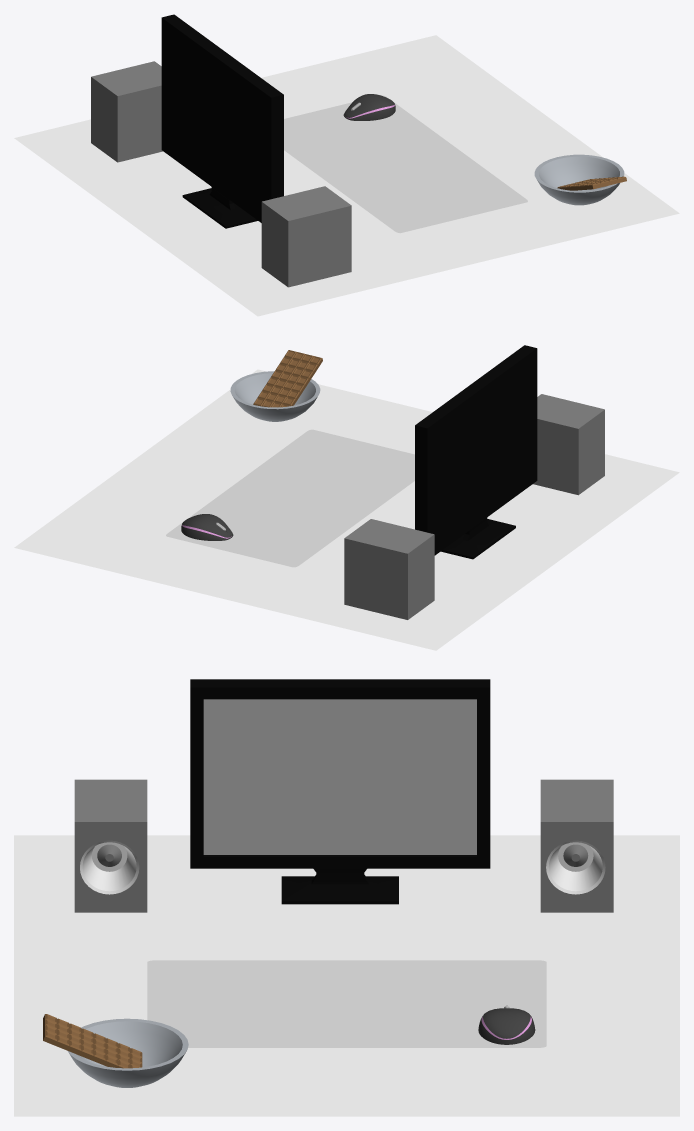
The model's file is Room_02.fbx.
3 views of the same model, one above another, from view 1: azimuth 30°, elevation 25°; view 2: azimuth 150°, elevation 25°; view 3: azimuth 270°, elevation 25° (orthographic). The views are drawn at different scales.
Parts seen in each view (by area): view 1: Plane, TV, Mat, Ufer, Ufer.001, Sara, Mouse, Chocolate; view 2: Plane, TV, Mat, Ufer.001, Ufer, Chocolate, Sara, Mouse; view 3: Plane, TV, Mat, Ufer.001, Ufer, Sara, Chocolate, Mouse.
Boxes of the visible parts, left/top/right/bottom form: Plane: left=14, top=35, right=679, bottom=316; TV: left=161, top=14, right=283, bottom=228; Mat: left=284, top=95, right=527, bottom=233; Ufer: left=261, top=186, right=351, bottom=287; Ufer.001: left=91, top=61, right=162, bottom=162; Sara: left=534, top=154, right=624, bottom=205; Mouse: left=343, top=94, right=395, bottom=120; Chocolate: left=557, top=176, right=626, bottom=190; Plane: left=14, top=369, right=679, bottom=650; TV: left=415, top=345, right=537, bottom=559; Mat: left=166, top=429, right=414, bottom=567; Ufer.001: left=344, top=519, right=434, bottom=619; Ufer: left=533, top=394, right=604, bottom=495; Chocolate: left=253, top=350, right=322, bottom=407; Sara: left=230, top=371, right=320, bottom=421; Mouse: left=181, top=514, right=233, bottom=540; Plane: left=14, top=835, right=679, bottom=1116; TV: left=190, top=679, right=490, bottom=904; Mat: left=147, top=960, right=546, bottom=1047; Ufer.001: left=540, top=779, right=613, bottom=912; Ufer: left=74, top=779, right=147, bottom=912; Sara: left=68, top=1018, right=188, bottom=1087; Chocolate: left=43, top=1014, right=142, bottom=1068; Mouse: left=478, top=1005, right=535, bottom=1044.
Bounding box in the file's own units: 1000 × 346 × 1000.
